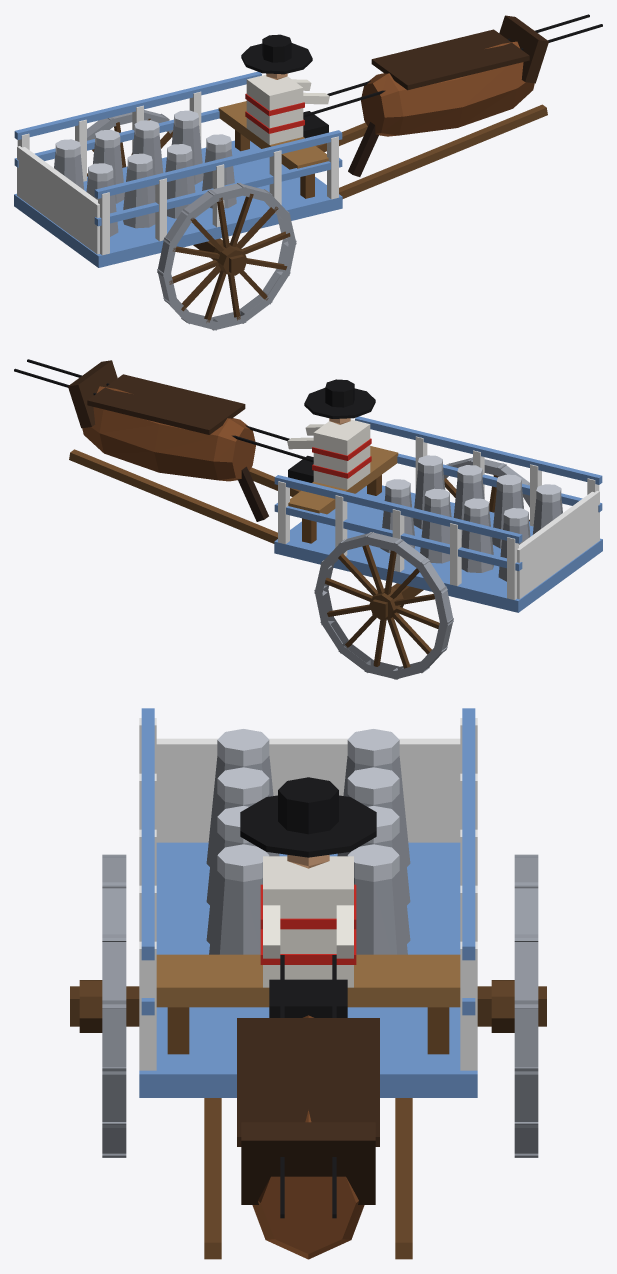
File: carreta_lechero_body.obj
3 views of the same model, one above another, from view 1: azimuth 30°, elevation 25°; view 2: azimuth 150°, elevation 25°; view 3: azimuth 270°, elevation 25° (orthographic). The views are drawn at different scales.
Parts seen in each view (by area): view 1: carreta_lechero_body; view 2: carreta_lechero_body; view 3: carreta_lechero_body.
Part boxes in pixels (bbox=[...]): carreta_lechero_body: bbox=[14, 14, 602, 330]; carreta_lechero_body: bbox=[14, 359, 602, 679]; carreta_lechero_body: bbox=[70, 708, 546, 1259].
Size of the model in its own units: 5.75 by 2.29 by 2.2.
